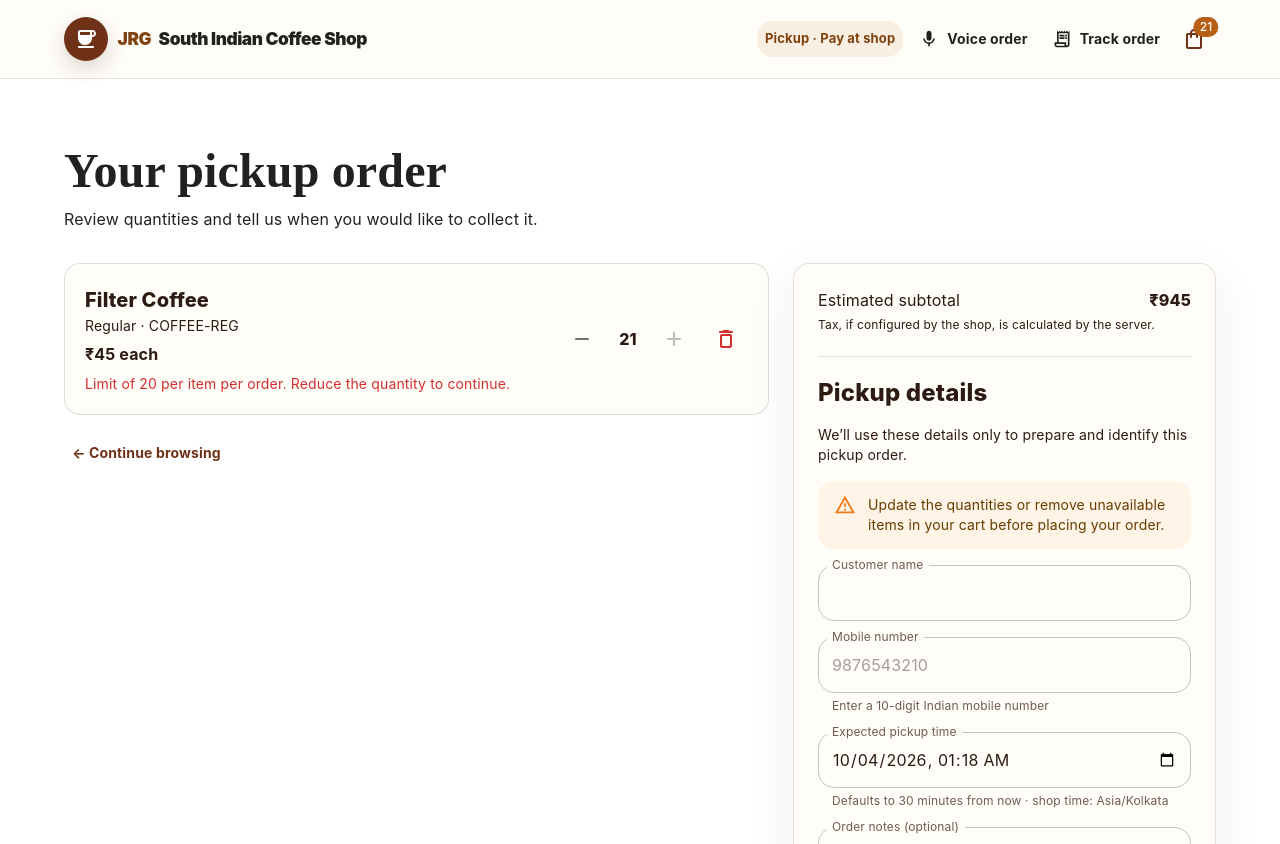
pickup checkout › explains the API quantity limit and lets an old cart recover without losing items
The width and height of the screenshot is (1280, 844).
Expected: the text "Limit of 20 per item per order. Reduce the quantity to continue." is shown, [85, 374, 510, 394]
Click the button named "Decrease Filter Coffee Regular quantity" at [582, 339], box [560, 317, 604, 361]
(page scrolled)
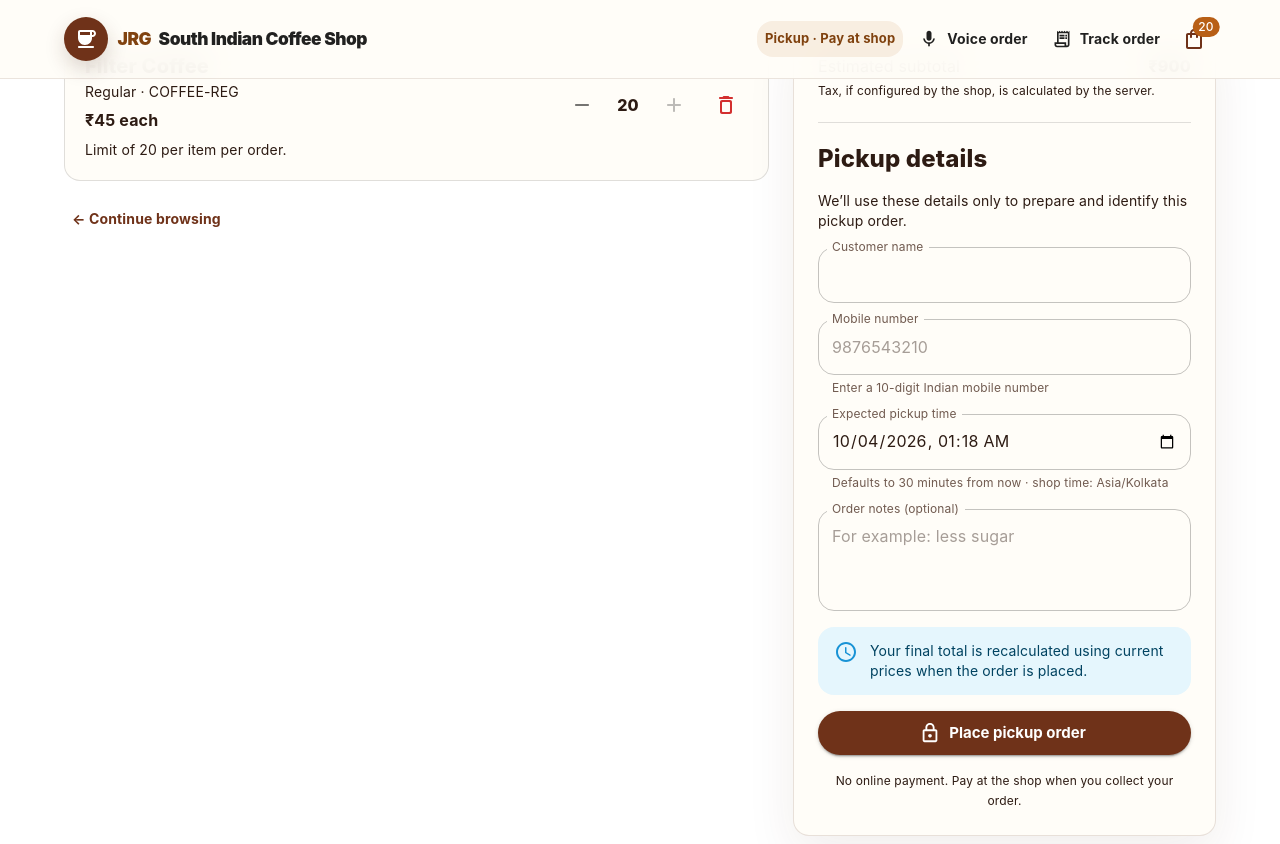
Expected: the text "Limit of 20 per item per order." is shown, [85, 140, 287, 160]
Expected: the link named "Cart with 20 items" is shown, [1172, 17, 1216, 61]
Expected: the button "Place pickup order" is enabled, [818, 711, 1191, 755]
